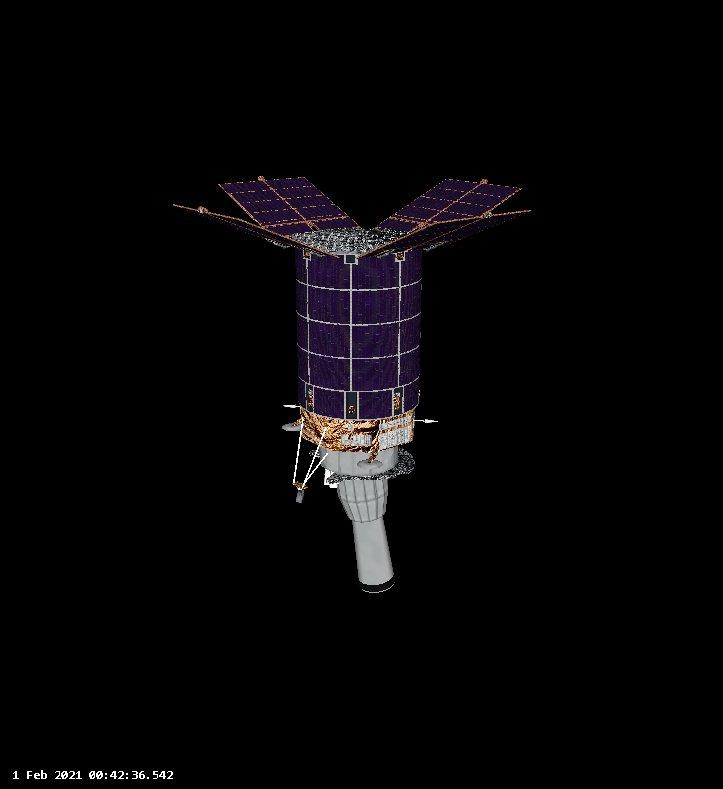antenna: (291, 414, 331, 506), (357, 458, 384, 470), (281, 422, 304, 432), (308, 448, 322, 460), (414, 418, 439, 424), (283, 402, 297, 410)
body: (297, 226, 425, 454)
solar: (171, 201, 343, 262), (373, 174, 524, 236), (358, 207, 534, 260), (213, 174, 361, 234)
thruster: (340, 506, 403, 601)
